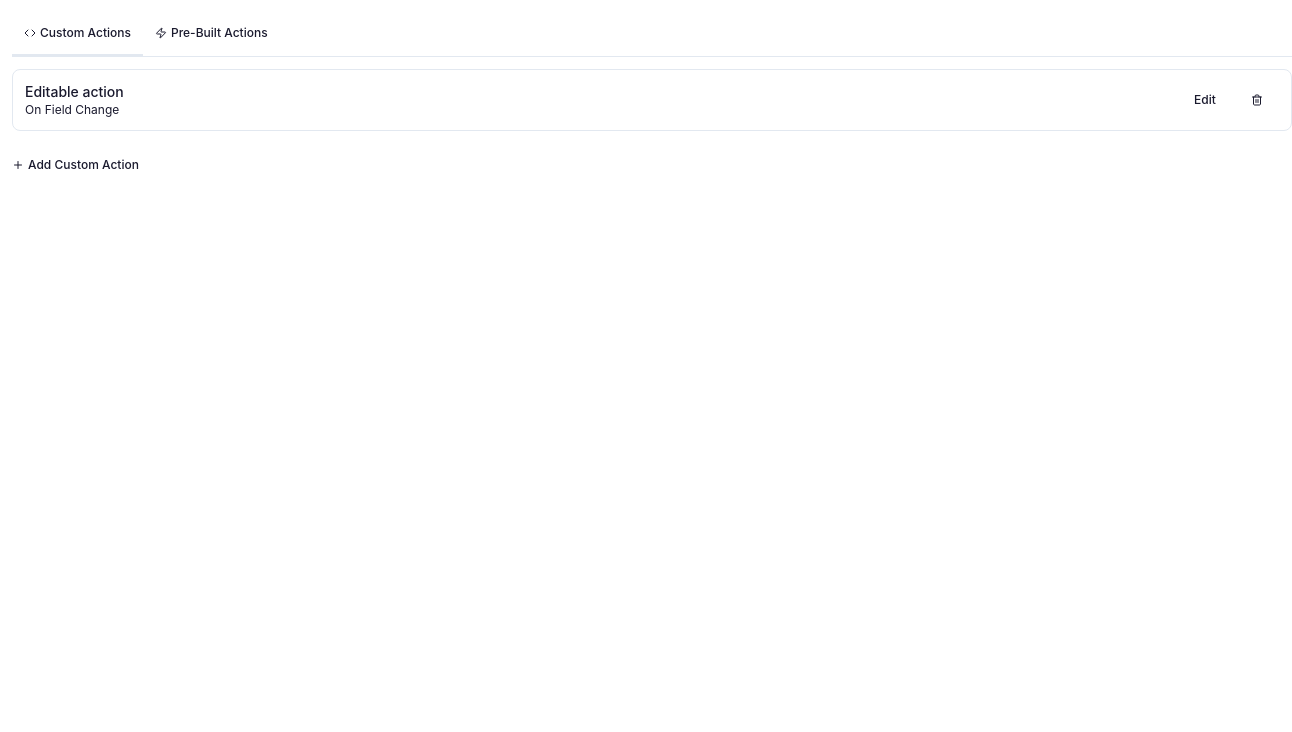
Test: ActionEditor › editing actions › opens the editor when Edit is clicked
Click the button "Edit": [1205, 100] box [1183,78,1227,122]
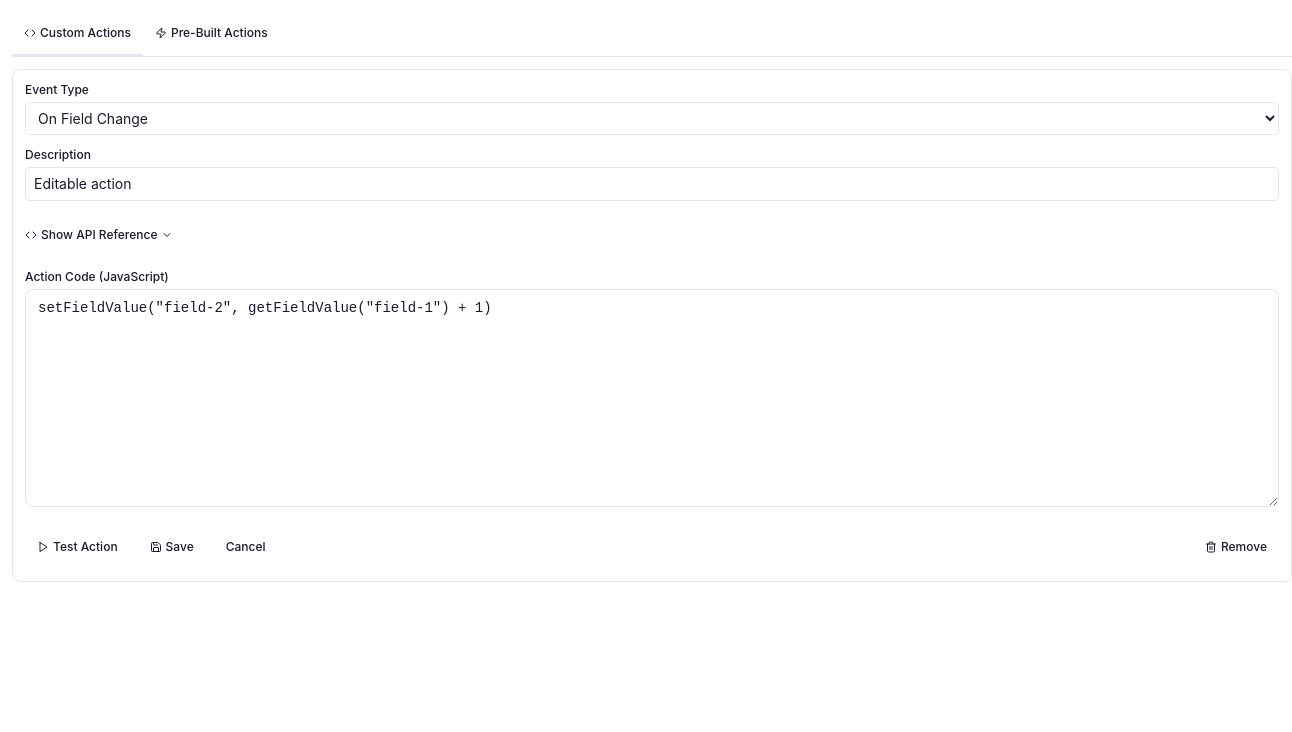
Now the text box labelled "Action Code (JavaScript)" is shown, box [25,289,1279,507]
Now the dropdown labelled "Event Type" is shown, box [25,102,1279,135]
